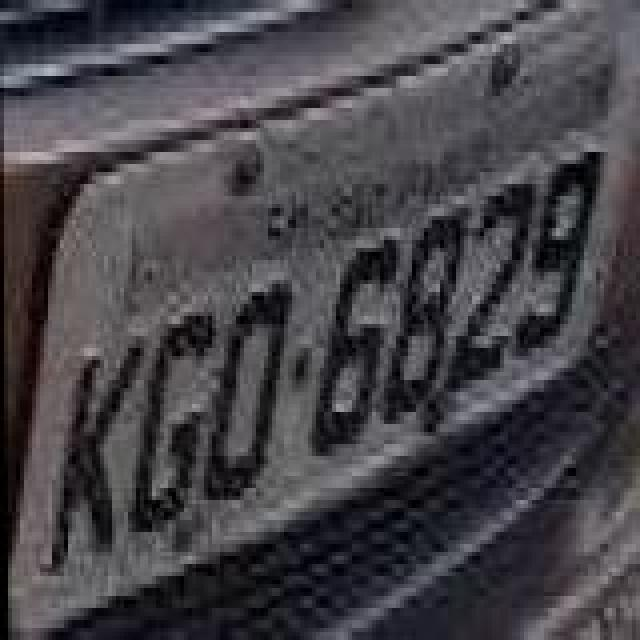2: (442, 180, 542, 396)
6: (306, 234, 406, 462)
8: (380, 208, 468, 416)
9: (508, 148, 600, 364)
G: (124, 310, 220, 538)
K: (46, 336, 150, 576)
O: (194, 288, 294, 504)
